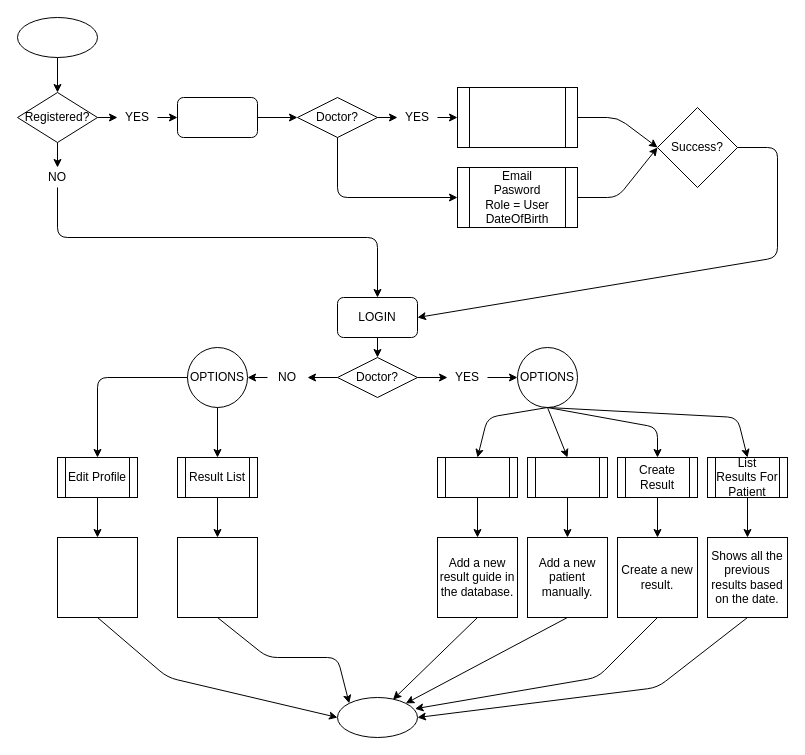
Image size: 805x755. Some labels were removed from this diagram. The shapes that lost their labels are listed below. From the top down, each one's centre as x and y in pixels, then its label:
the point at 57,37: START
the point at 217,117: REGISTER
the point at 517,117: Email Pasword Role = Admin
the point at 477,477: Add Result Guide
the point at 567,477: Add Patient
the point at 97,577: Option to edit data of profile that may be wrong.
the point at 217,577: Shows all the previous results for the logged user
the point at 377,717: LOGOUT
